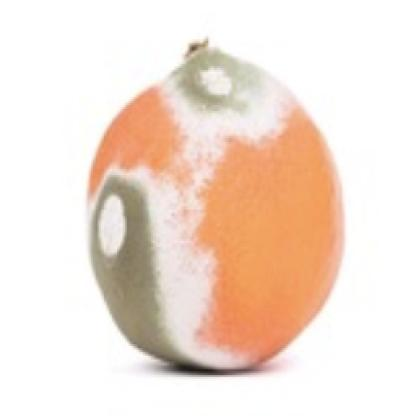rotten: (90, 36, 349, 372)
